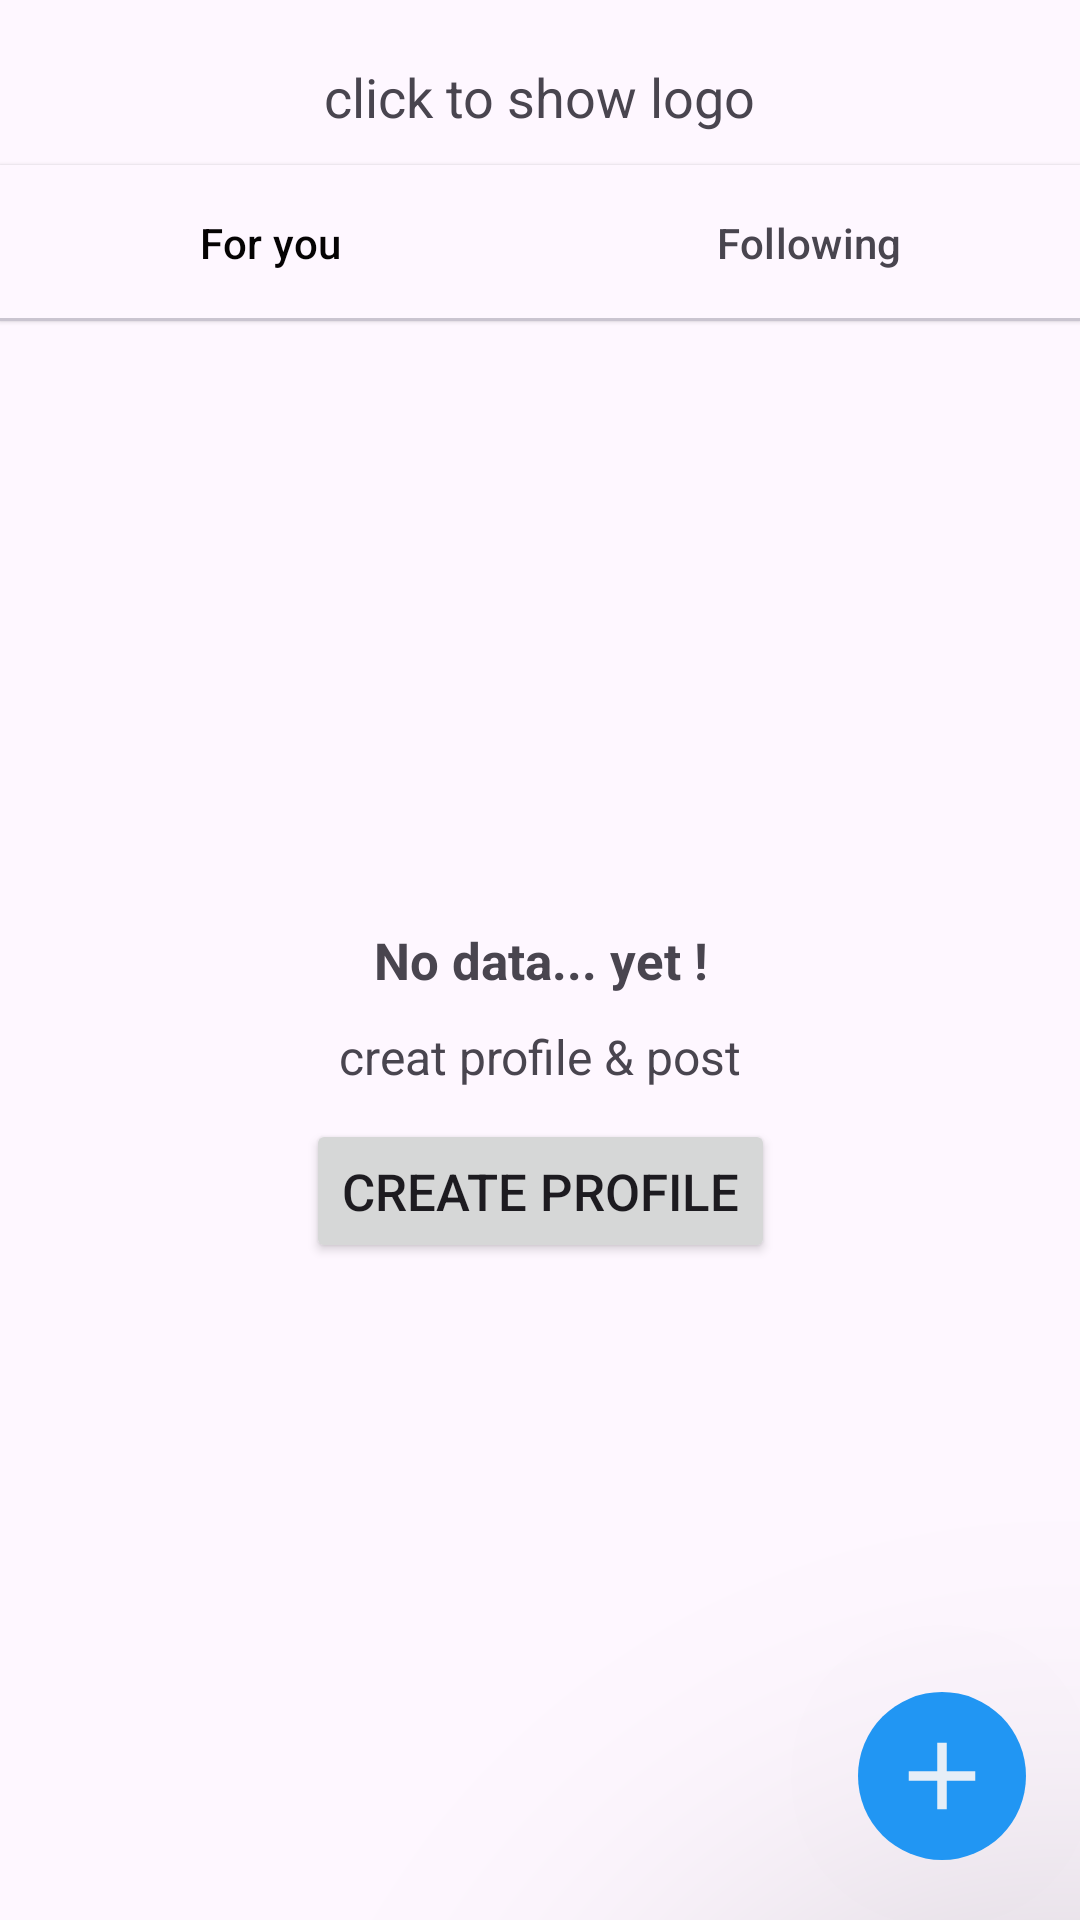

Icons on this 1080×1920 Android screen, each with its box as (x1, y1, x2, y2):
add: (861, 1695, 1023, 1857)
